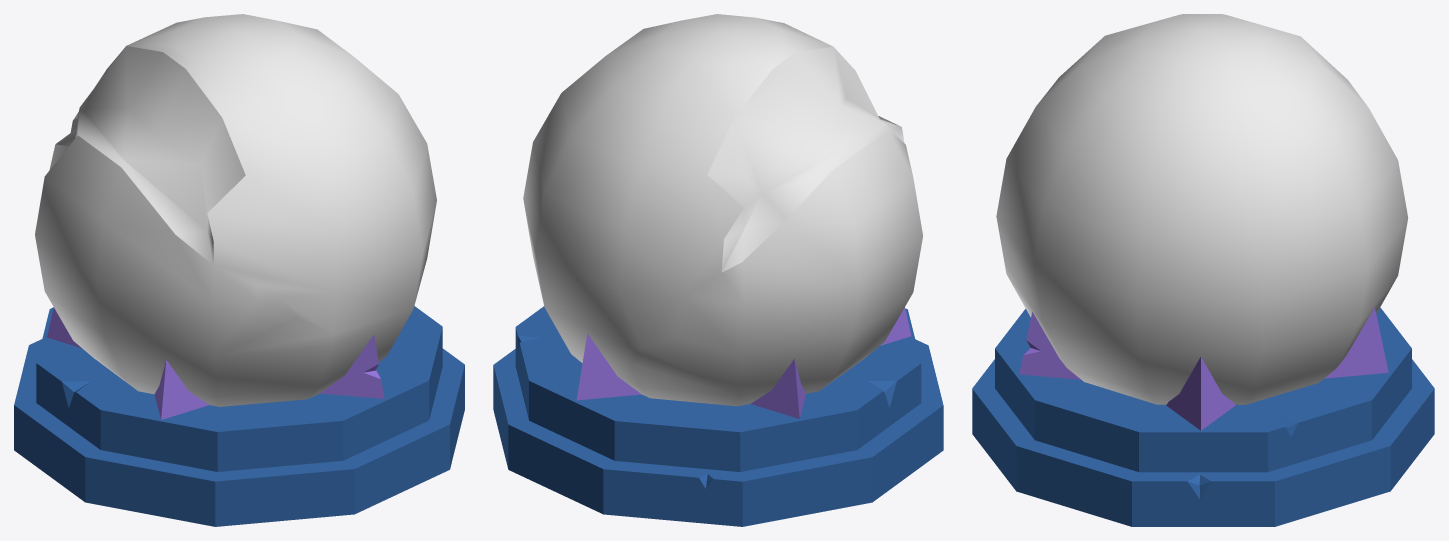
Rendered from CrystalBall.fbx.
3 views of the same model, side by side, from view 1: azimuth 30°, elevation 25°; view 2: azimuth 150°, elevation 25°; view 3: azimuth 270°, elevation 25° (orthographic).
Parts seen in each view (by area): view 1: Junk_CrystalBall; view 2: Junk_CrystalBall; view 3: Junk_CrystalBall.
Boxes of the visible parts, x1=… form: Junk_CrystalBall: x1=14, y1=14, x2=464, y2=526; Junk_CrystalBall: x1=493, y1=14, x2=943, y2=526; Junk_CrystalBall: x1=972, y1=14, x2=1434, y2=526.
Size of the model in its own units: 1.44 by 1.45 by 1.51.
